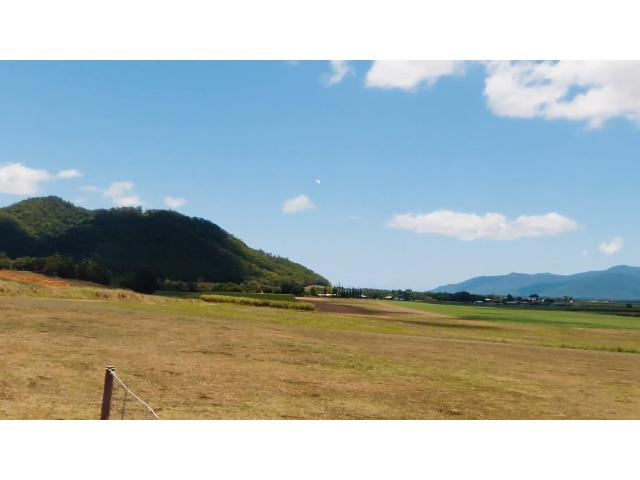Anti-Drone: (312, 174, 326, 186)
